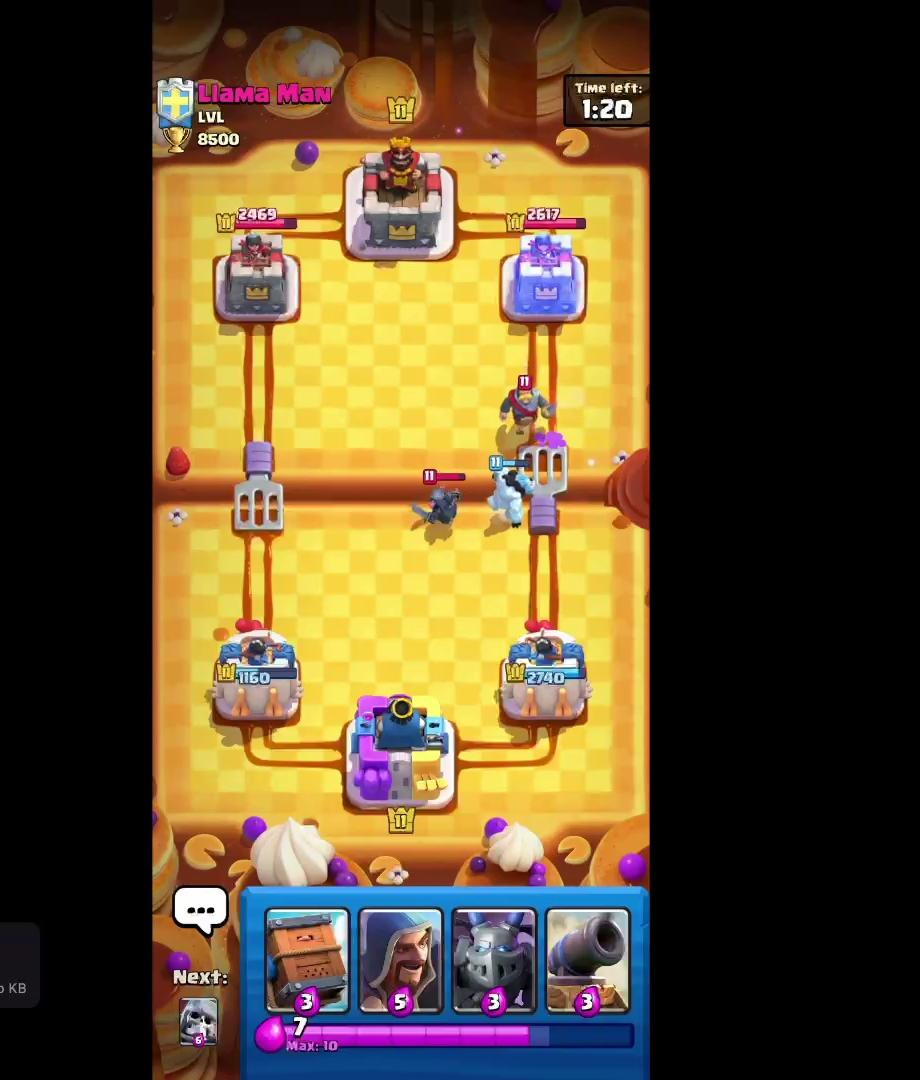Knight: (494, 372, 558, 438)
Mini Pekka: (409, 466, 468, 535)
